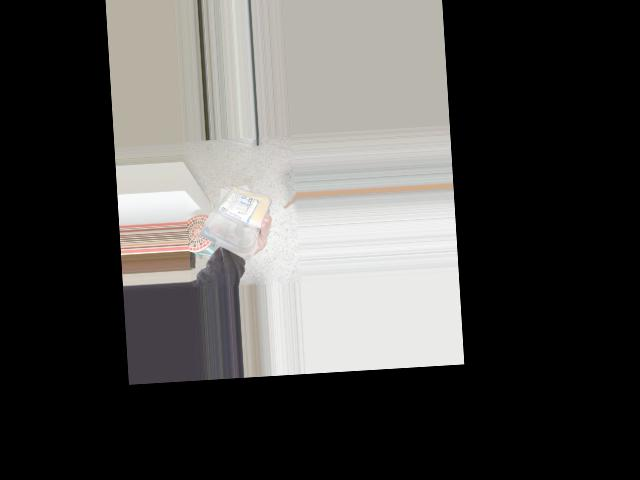cheese: (195, 179, 265, 257)
